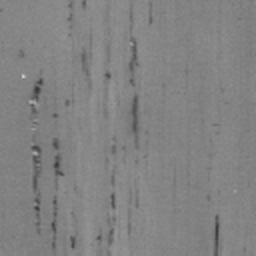Slag inclusion: (104, 0, 154, 134), (29, 137, 78, 252), (28, 76, 70, 118), (95, 227, 114, 246), (214, 210, 220, 256), (64, 0, 88, 10), (110, 174, 116, 210), (79, 46, 88, 67), (110, 145, 116, 156)
